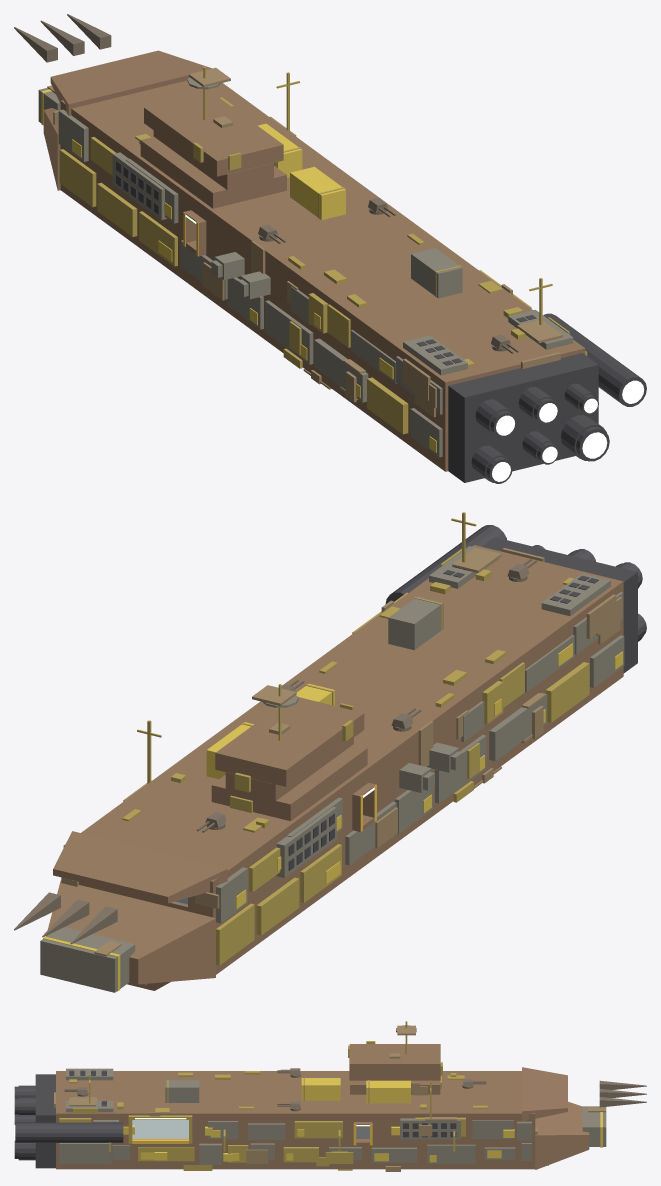
The model's file is ship_SMALL_FRIGATE_v2.glb.
3 renders of one model, top to bottom at view 1: azimuth 30°, elevation 25°; view 2: azimuth 150°, elevation 25°; view 3: azimuth 270°, elevation 25°, orthographic. The views are drawn at different scales.
Parts seen in each view (by area): view 1: SMALL_FRIGATE_Hull-col, SMALL_FRIGATE_Engines, SMALL_FRIGATE_Armor, SMALL_FRIGATE_Trim, SMALL_FRIGATE_ScrapPlates, SMALL_FRIGATE_Accent, SMALL_FRIGATE_EngineGlow, SMALL_FRIGATE_RamSpikes, SMALL_FRIGATE_ScrapTrim, SMALL_FRIGATE_Details, SMALL_FRIGATE_EscapePod_2, SMALL_FRIGATE_EscapePod_1; view 2: SMALL_FRIGATE_Hull-col, SMALL_FRIGATE_Armor, SMALL_FRIGATE_Trim, SMALL_FRIGATE_Engines, SMALL_FRIGATE_ScrapPlates, SMALL_FRIGATE_Accent, SMALL_FRIGATE_ScrapTrim, SMALL_FRIGATE_RamSpikes, SMALL_FRIGATE_Details, SMALL_FRIGATE_EscapePod_2, SMALL_FRIGATE_EscapePod_1; view 3: SMALL_FRIGATE_Hull-col, SMALL_FRIGATE_Armor, SMALL_FRIGATE_Engines, SMALL_FRIGATE_Trim, SMALL_FRIGATE_Accent, SMALL_FRIGATE_ScrapPlates, SMALL_FRIGATE_CargoBayShield, SMALL_FRIGATE_CargoBayDoor-col, SMALL_FRIGATE_ScrapTrim, SMALL_FRIGATE_RamSpikes, SMALL_FRIGATE_Details, SMALL_FRIGATE_Hazard.
Boxes of the visible parts, <box> form: SMALL_FRIGATE_Hull-col: <box>43,50,585,471</box>; SMALL_FRIGATE_Engines: <box>116,161,646,483</box>; SMALL_FRIGATE_Armor: <box>38,77,573,457</box>; SMALL_FRIGATE_Trim: <box>59,66,587,434</box>; SMALL_FRIGATE_ScrapPlates: <box>47,67,562,417</box>; SMALL_FRIGATE_Accent: <box>41,89,436,452</box>; SMALL_FRIGATE_EngineGlow: <box>492,380,644,481</box>; SMALL_FRIGATE_RamSpikes: <box>14,14,111,62</box>; SMALL_FRIGATE_ScrapTrim: <box>193,72,569,368</box>; SMALL_FRIGATE_Details: <box>135,97,525,366</box>; SMALL_FRIGATE_EscapePod_2: <box>211,252,244,280</box>; SMALL_FRIGATE_EscapePod_1: <box>237,271,270,299</box>; SMALL_FRIGATE_Hull-col: <box>46,545,623,990</box>; SMALL_FRIGATE_Armor: <box>40,546,624,992</box>; SMALL_FRIGATE_Trim: <box>216,592,589,965</box>; SMALL_FRIGATE_Engines: <box>288,525,646,870</box>; SMALL_FRIGATE_ScrapPlates: <box>61,547,622,985</box>; SMALL_FRIGATE_Accent: <box>43,643,622,991</box>; SMALL_FRIGATE_ScrapTrim: <box>137,512,479,812</box>; SMALL_FRIGATE_RamSpikes: <box>14,892,117,944</box>; SMALL_FRIGATE_Details: <box>122,569,574,832</box>; SMALL_FRIGATE_EscapePod_2: <box>399,763,434,792</box>; SMALL_FRIGATE_EscapePod_1: <box>427,742,462,772</box>; SMALL_FRIGATE_Hull-col: <box>56,1044,589,1169</box>; SMALL_FRIGATE_Armor: <box>59,1025,606,1164</box>; SMALL_FRIGATE_Engines: <box>14,1070,456,1168</box>; SMALL_FRIGATE_Trim: <box>59,1021,465,1162</box>; SMALL_FRIGATE_Accent: <box>123,1078,602,1162</box>; SMALL_FRIGATE_ScrapPlates: <box>54,1025,605,1171</box>; SMALL_FRIGATE_CargoBayShield: <box>132,1120,188,1138</box>; SMALL_FRIGATE_CargoBayDoor-col: <box>132,1120,188,1138</box>; SMALL_FRIGATE_ScrapTrim: <box>73,1041,442,1170</box>; SMALL_FRIGATE_RamSpikes: <box>599,1080,646,1107</box>; SMALL_FRIGATE_Details: <box>69,1071,487,1112</box>; SMALL_FRIGATE_Hazard: <box>132,1124,372,1145</box>.
Size of the model in its own units: 20.7 by 21.07 by 93.72.
